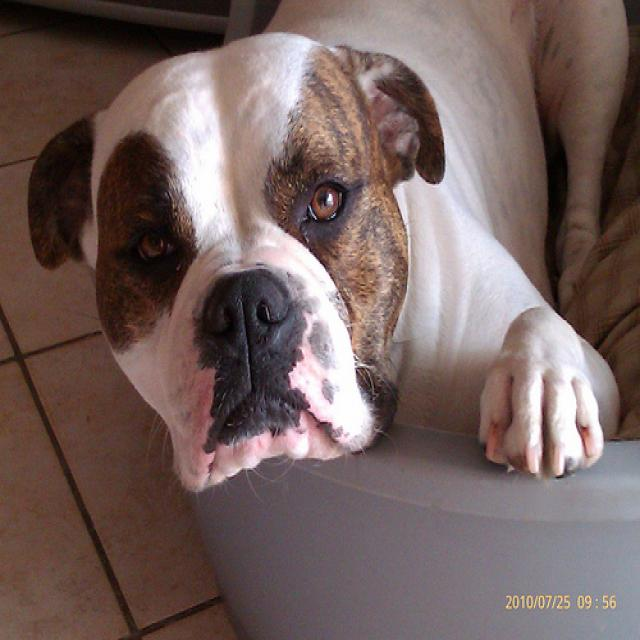dog-american_bulldog: (18, 2, 637, 502)
